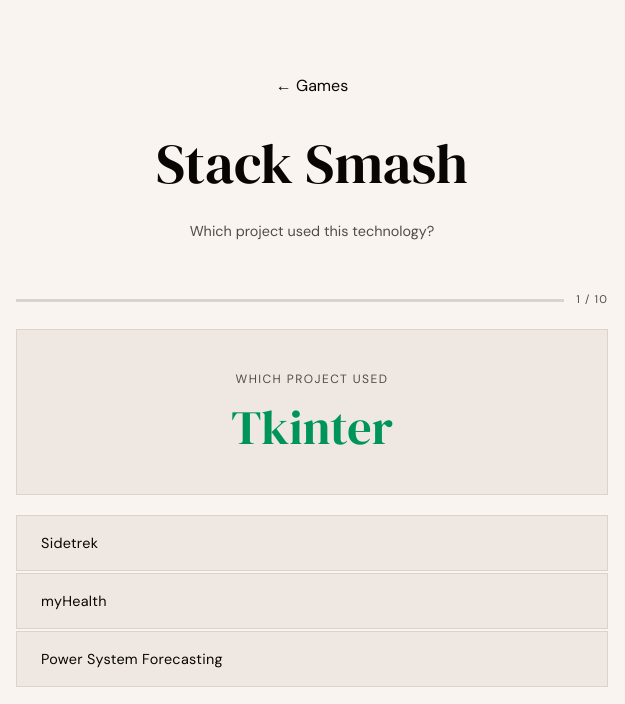
Test: StackQuiz › shows feedback after selecting an answer
Click the button "Sidetrek" at (70, 543), box top-left (16, 515), bottom-right (608, 571)
(page scrolled)
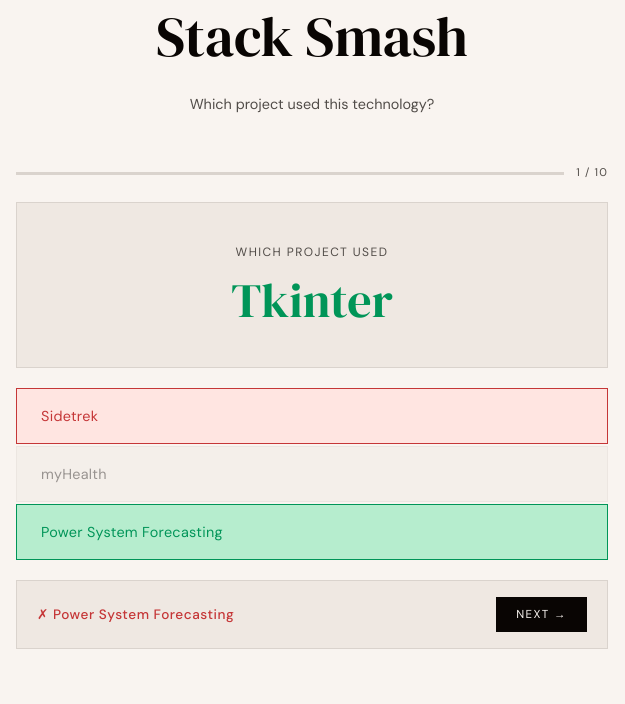
Check: the button "Next →" is shown, box top-left (496, 597), bottom-right (587, 632)
